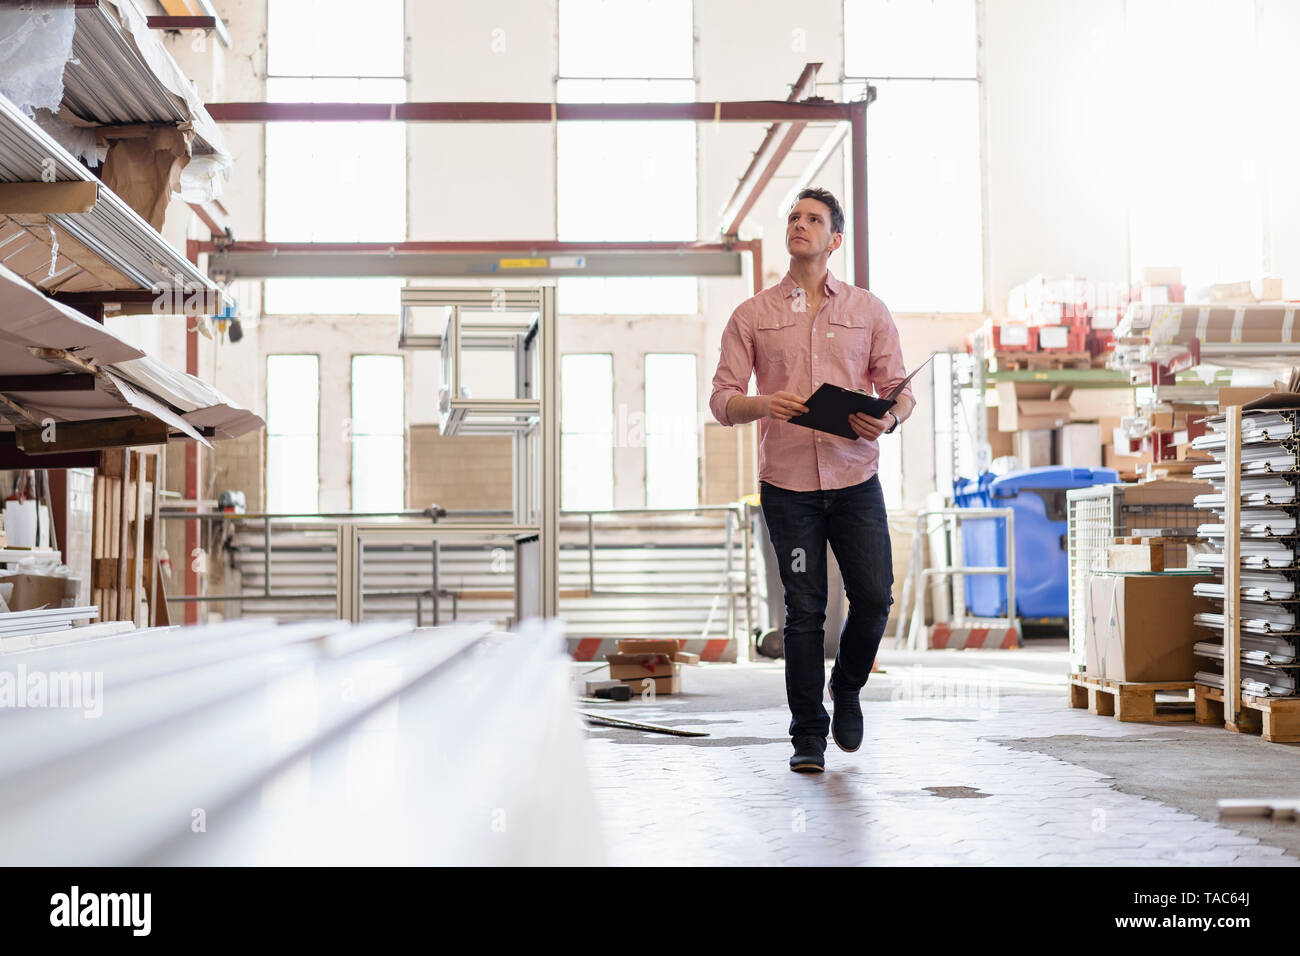person: (709, 187, 916, 777)
